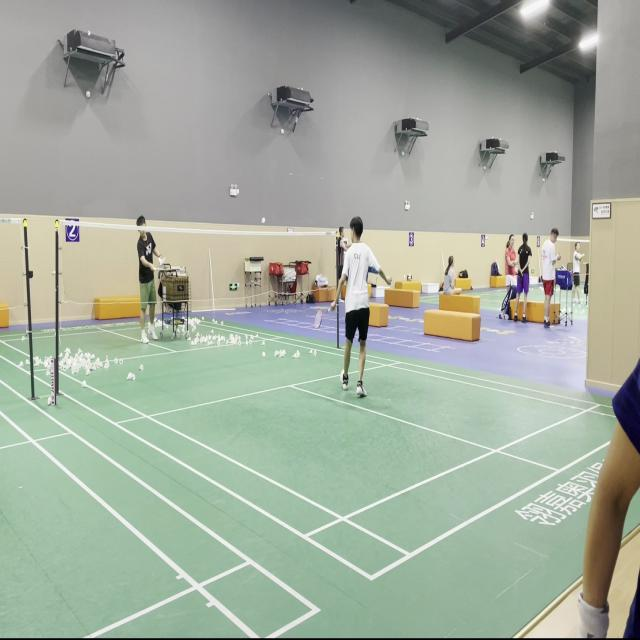shuttlecock: (261, 216, 266, 224)
